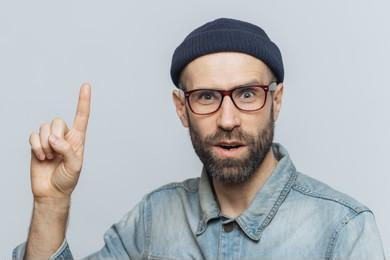face: (182, 66, 273, 183)
